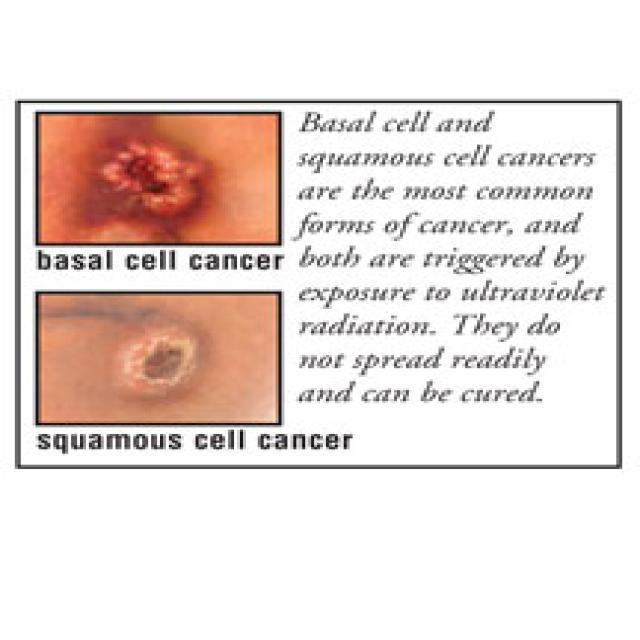Cancer: (87, 129, 234, 232), (95, 303, 229, 413)
